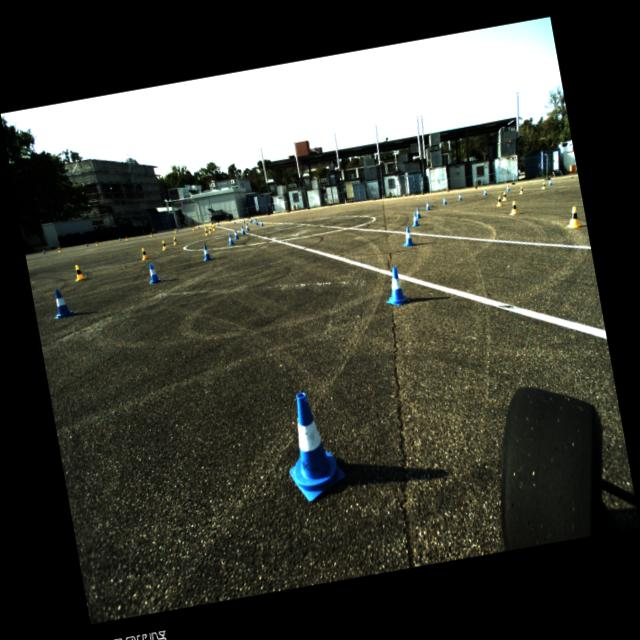blue_cone: (275, 388, 348, 503), (380, 264, 410, 308), (49, 286, 77, 318), (146, 262, 162, 284), (400, 226, 414, 247), (200, 243, 212, 260), (409, 212, 419, 226), (226, 233, 234, 245), (414, 207, 420, 218), (424, 200, 430, 210), (233, 230, 239, 240), (244, 222, 250, 230), (441, 196, 446, 204), (240, 225, 244, 234), (482, 189, 488, 195), (505, 184, 510, 190), (457, 193, 461, 200), (259, 220, 263, 226), (548, 178, 552, 184), (255, 218, 258, 224), (85, 242, 89, 246), (242, 218, 245, 222), (42, 250, 46, 253), (118, 237, 122, 240), (217, 222, 220, 226), (197, 224, 200, 228), (253, 218, 255, 223), (249, 217, 251, 222), (175, 228, 178, 231), (233, 220, 235, 223)
yellow_cone: (562, 206, 580, 229), (72, 264, 86, 280), (508, 200, 518, 214), (140, 248, 148, 260), (494, 196, 502, 207), (160, 240, 167, 250), (172, 236, 178, 244), (501, 192, 506, 201), (540, 182, 546, 188), (518, 186, 523, 193), (204, 228, 208, 236), (208, 226, 212, 233), (57, 247, 61, 252), (95, 240, 98, 246), (149, 232, 153, 236), (173, 228, 176, 233), (191, 226, 194, 230), (212, 226, 215, 230), (125, 236, 128, 240), (204, 224, 206, 229)
